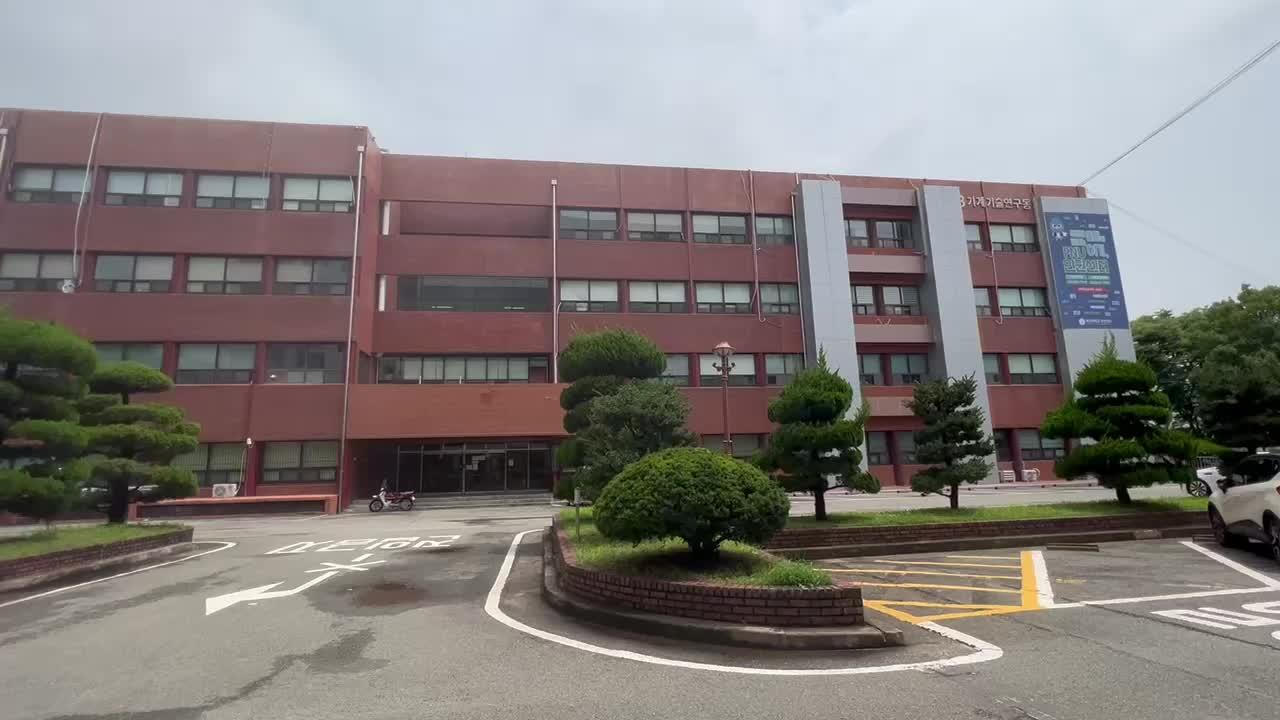building: (53, 108, 1043, 359)
